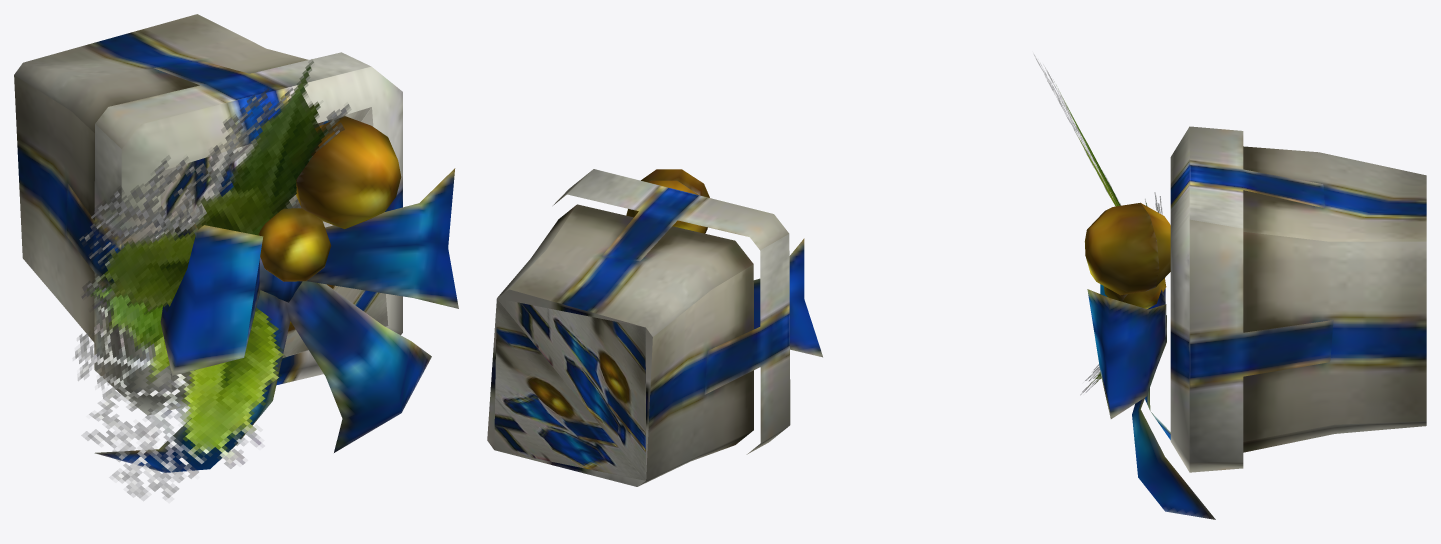
File: giftbox_b.glb
3 views of the same model, side by side, from view 1: azimuth 30°, elevation 25°; view 2: azimuth 150°, elevation 25°; view 3: azimuth 270°, elevation 25° (orthographic). The views are drawn at different scales.
Visible parts, largest first — view 1: model_giftbox_b; view 2: model_giftbox_b; view 3: model_giftbox_b.
Boxes of the visible parts, left/top/right/bottom form: model_giftbox_b: left=14, top=14, right=458, bottom=498; model_giftbox_b: left=487, top=169, right=822, bottom=486; model_giftbox_b: left=1034, top=54, right=1426, bottom=519.
Size of the model in its own units: 1.36 by 1.5 by 1.17.
Materials: 2 (2 with a texture image).
